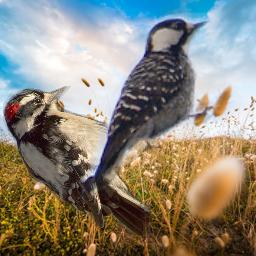Woodpecker: (72, 7, 224, 204), (3, 86, 151, 238)
